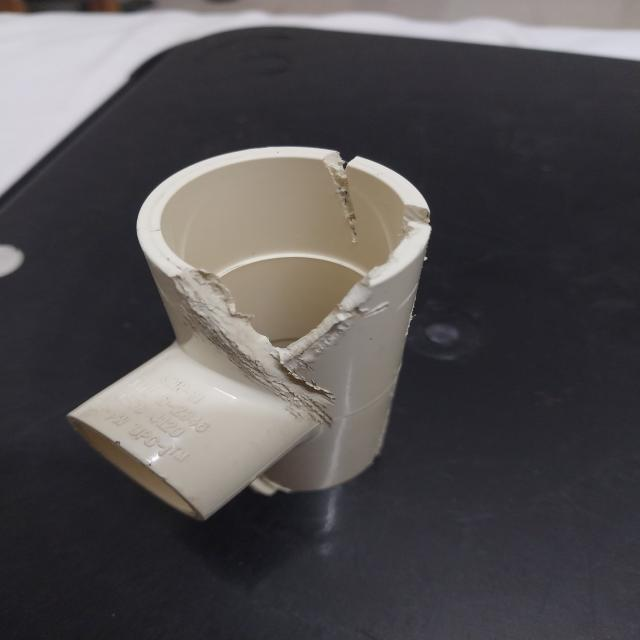Defective: (165, 243, 392, 441), (322, 155, 364, 227), (394, 196, 432, 237)
